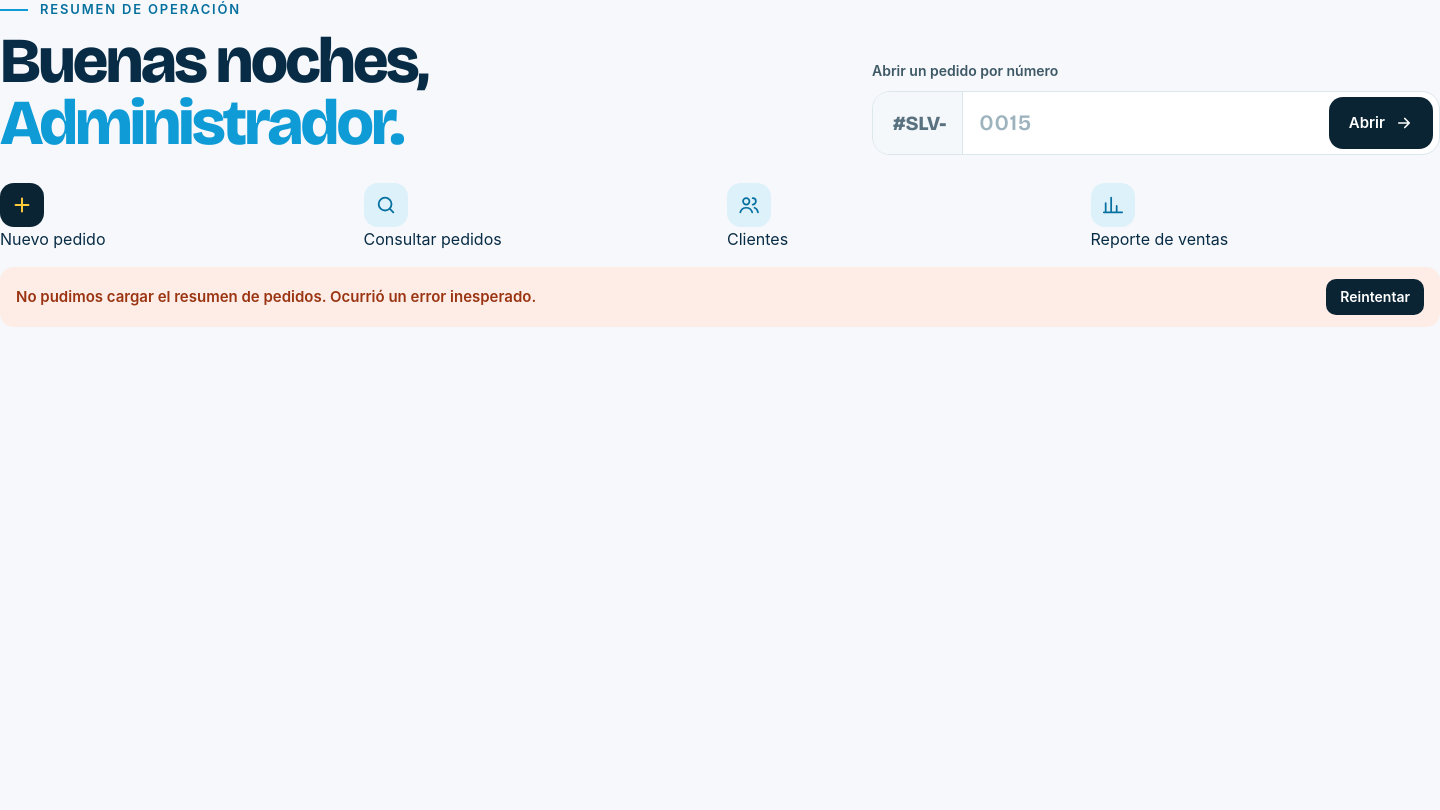
it: AdminHomePage › muestra el error de carga y permite reintentar
Expected: the message shows "No pudimos cargar el resumen de pedidos", [16, 287, 330, 306]
What coordinates should you click on to do the following:
click the button "Reintentar"
I would click on:
 (1375, 297)
Its box is [1326, 279, 1424, 315].
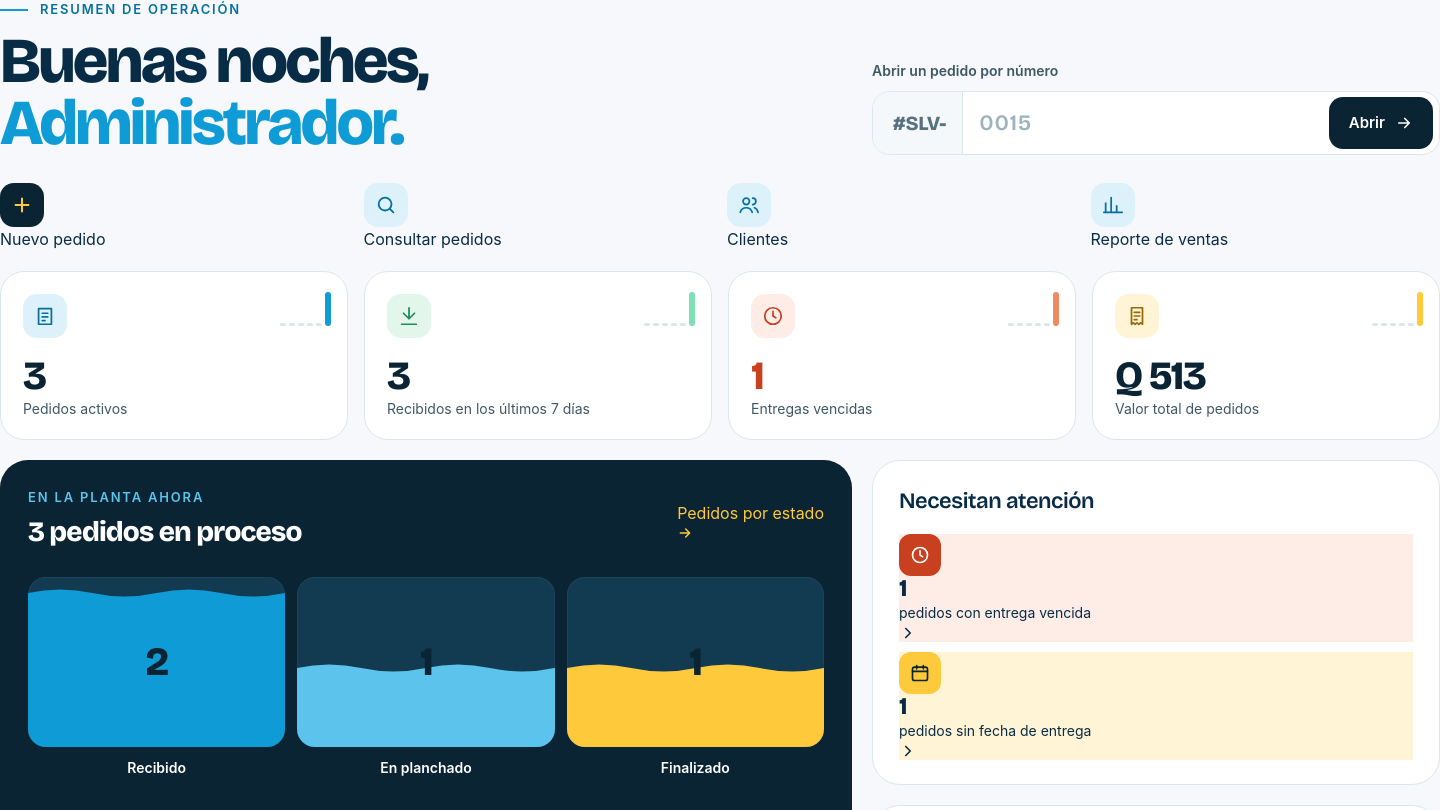
Now the heading "3 pedidos en proceso" is shown, box [28, 511, 302, 553]
